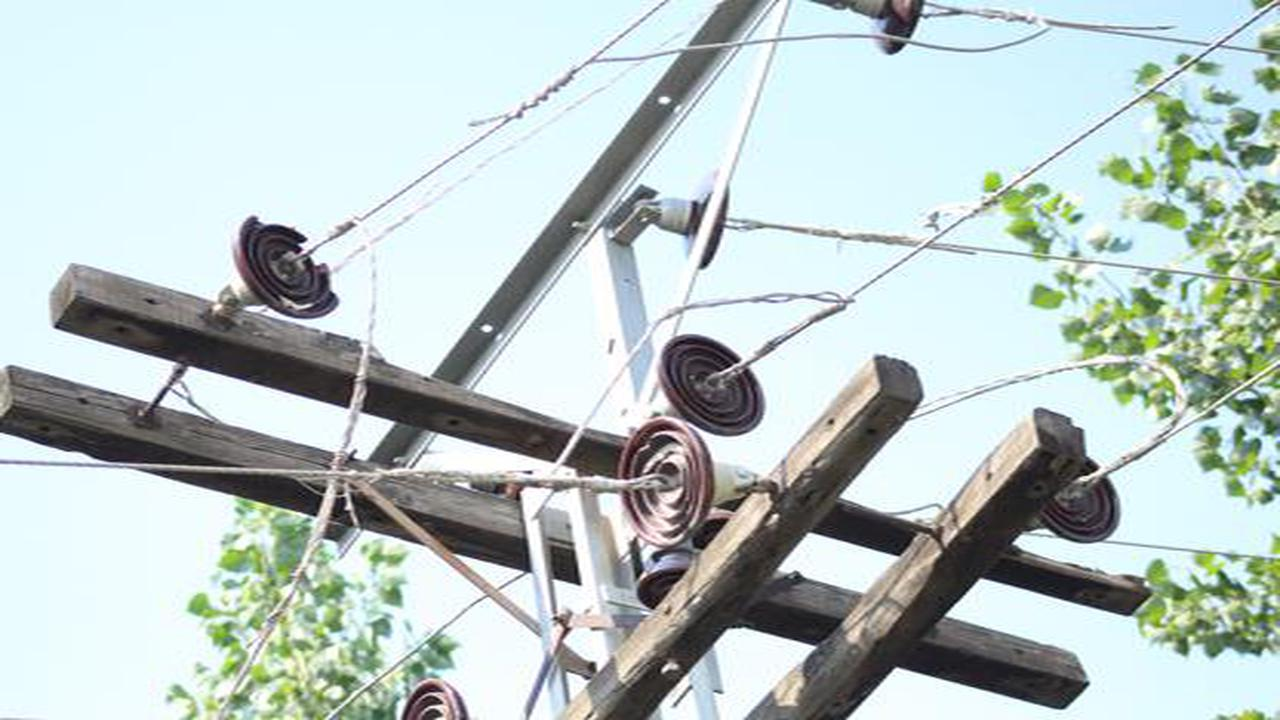defect_disc: (229, 208, 347, 323)
insulator_disc: (613, 413, 715, 553), (654, 332, 772, 442), (658, 168, 741, 270)
